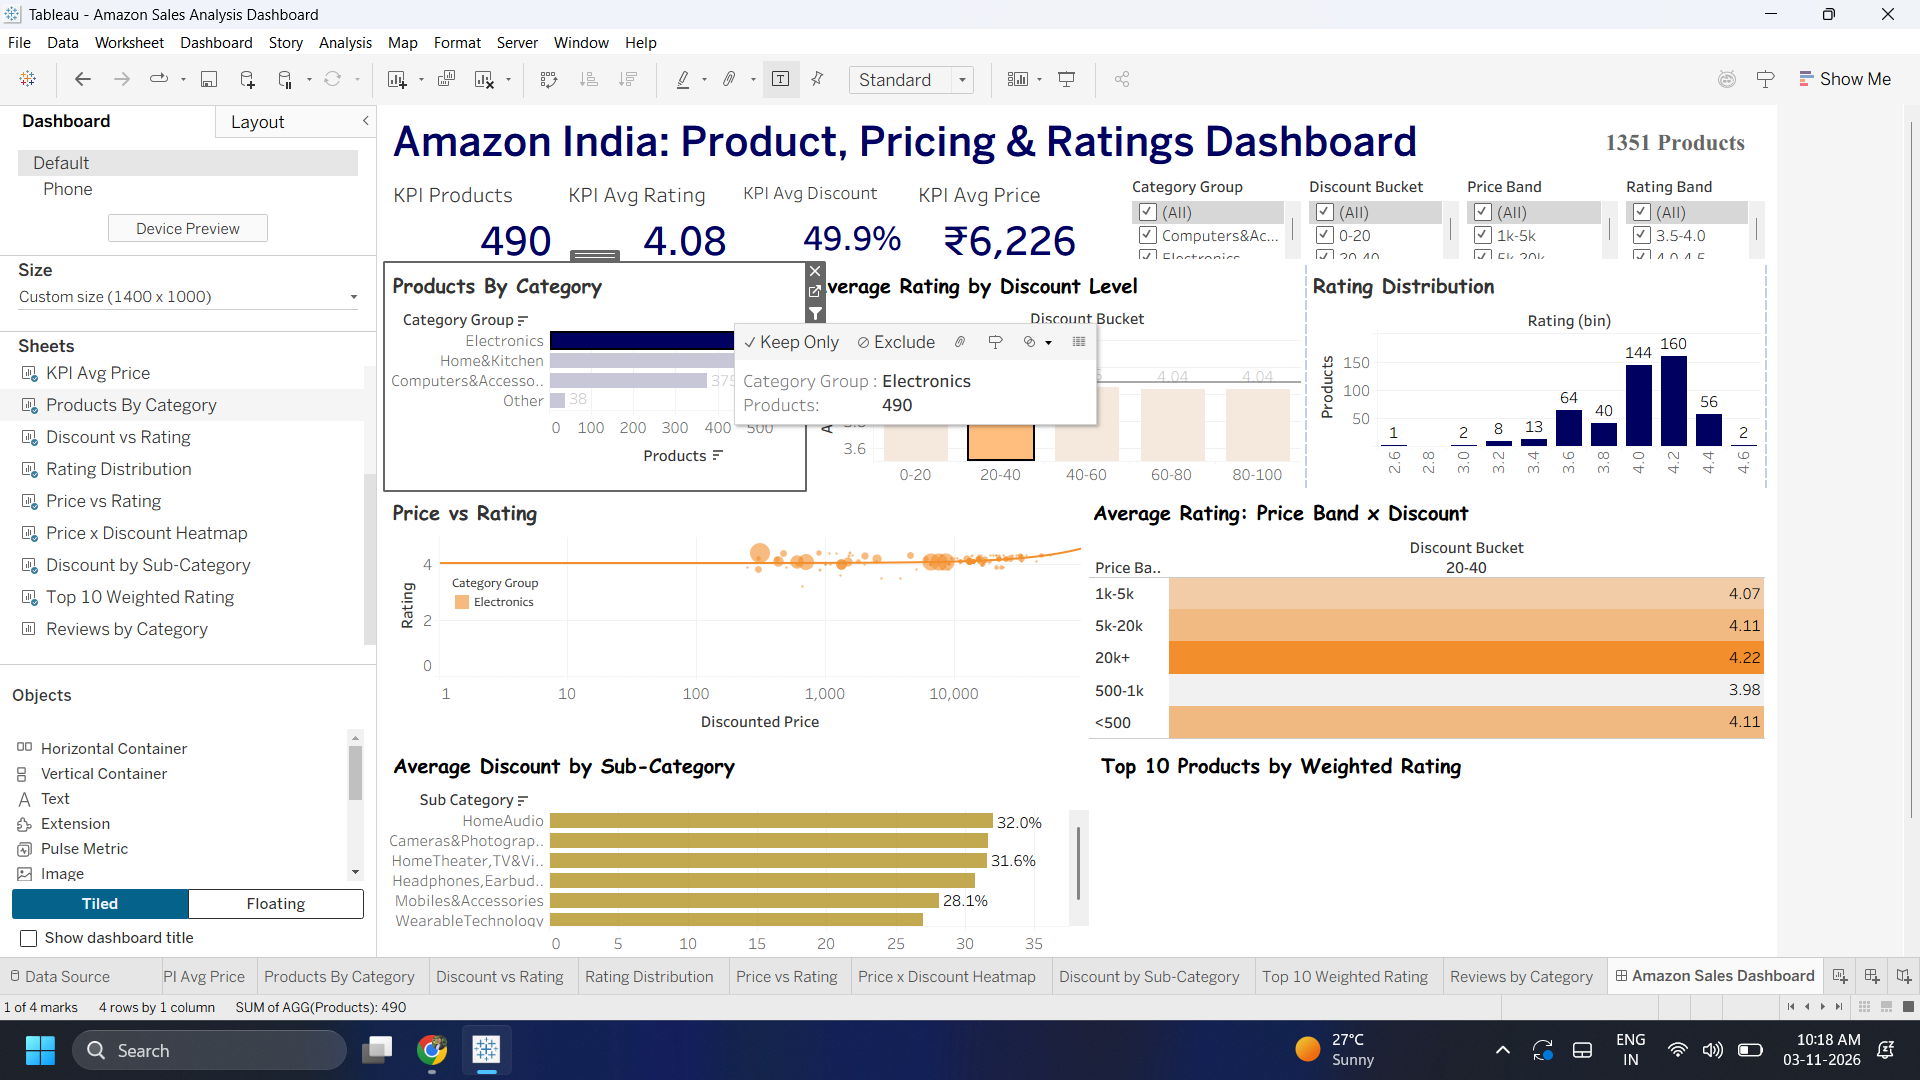

The page's visual inventory and layout, read from the dashboard file:
{"tool":"tableau","page":{"name":"Amazon Sales Dashboard","canvas":[1400,1000],"ordinal":0},"visuals":[{"type":"text","box":[8,8,1213,59]},{"type":"text","box":[1221,8,171,59]},{"type":"worksheet","title":"KPI Products","mark":"Automatic","box":[8,67,175,91]},{"type":"worksheet","title":"KPI Avg Rating","mark":"Automatic","box":[183,67,175,91]},{"type":"worksheet","title":"KPI Avg Discount ","mark":"Automatic","box":[358,67,175,91]},{"type":"worksheet","title":"KPI Avg Price","mark":"Automatic","box":[533,67,175,91]},{"type":"filter","title":"Price vs Rating","param":"[federated.0980d4p0rky9n915e8mv21knjjbg].[none:Calculation_1494022736744448:nk]","box":[751,67,177,91]},{"type":"filter","title":"Price vs Rating","param":"[federated.0980d4p0rky9n915e8mv21knjjbg].[none:discount_bucket:nk]","box":[928,67,158,91]},{"type":"filter","title":"Price vs Rating","param":"[federated.0980d4p0rky9n915e8mv21knjjbg].[none:price_band:nk]","box":[1086,67,159,91]},{"type":"filter","title":"Price vs Rating","param":"[federated.0980d4p0rky9n915e8mv21knjjbg].[none:rating_band:nk]","box":[1245,67,147,91]},{"type":"worksheet","title":"Products By Category","mark":"Automatic","rows":["Calculation_1494022736744448"],"cols":["Calculation_1494022738333697"],"box":[8,158,420,227]},{"type":"worksheet","title":"Discount vs Rating","mark":"Automatic","rows":["rating"],"cols":["discount_bucket"],"box":[428,158,500,227]},{"type":"worksheet","title":"Rating Distribution","mark":"Bar","rows":["Calculation_1494022738333697"],"cols":["Rating (bin)"],"box":[928,158,460,227]},{"type":"worksheet","title":"Price vs Rating","mark":"Circle","rows":["rating"],"cols":["discounted_price"],"box":[8,385,700,253]},{"type":"worksheet","title":"Price x Discount Heatmap","mark":"Square","rows":["price_band"],"cols":["discount_bucket"],"box":[708,385,684,253]},{"type":"legend","title":"Price vs Rating","param":"[federated.0980d4p0rky9n915e8mv21knjjbg].[none:Calculation_1494022736744448:nk]","box":[75,470,158,98]},{"type":"worksheet","title":"Discount by Sub-Category","mark":"Automatic","rows":["sub_category"],"cols":["discount_percentage"],"box":[8,638,692,250]},{"type":"worksheet","title":"Top 10 Weighted Rating","mark":"Automatic","rows":["Calculation_1494022738530306"],"cols":["weighted_rating"],"box":[700,638,692,250]},{"type":"text","box":[8,888,1384,104]}]}

Visuals, with their boxes on the page's 1400x1000 design canvas (x1, y1, x2, y2). These are canvas units, not pixel positions in the 1920x1080 screenshot, which may show the page scaled, cropped or inside an application window:
text: {"x1": 8, "y1": 8, "x2": 1221, "y2": 67}
text: {"x1": 1221, "y1": 8, "x2": 1392, "y2": 67}
"KPI Products" worksheet: {"x1": 8, "y1": 67, "x2": 183, "y2": 158}
"KPI Avg Rating" worksheet: {"x1": 183, "y1": 67, "x2": 358, "y2": 158}
"KPI Avg Discount " worksheet: {"x1": 358, "y1": 67, "x2": 533, "y2": 158}
"KPI Avg Price" worksheet: {"x1": 533, "y1": 67, "x2": 708, "y2": 158}
"Price vs Rating" filter: {"x1": 751, "y1": 67, "x2": 928, "y2": 158}
"Price vs Rating" filter: {"x1": 928, "y1": 67, "x2": 1086, "y2": 158}
"Price vs Rating" filter: {"x1": 1086, "y1": 67, "x2": 1245, "y2": 158}
"Price vs Rating" filter: {"x1": 1245, "y1": 67, "x2": 1392, "y2": 158}
"Products By Category" worksheet: {"x1": 8, "y1": 158, "x2": 428, "y2": 385}
"Discount vs Rating" worksheet: {"x1": 428, "y1": 158, "x2": 928, "y2": 385}
"Rating Distribution" worksheet (Bar marks): {"x1": 928, "y1": 158, "x2": 1388, "y2": 385}
"Price vs Rating" worksheet (Circle marks): {"x1": 8, "y1": 385, "x2": 708, "y2": 638}
"Price x Discount Heatmap" worksheet (Square marks): {"x1": 708, "y1": 385, "x2": 1392, "y2": 638}
"Price vs Rating" legend: {"x1": 75, "y1": 470, "x2": 233, "y2": 568}
"Discount by Sub-Category" worksheet: {"x1": 8, "y1": 638, "x2": 700, "y2": 888}
"Top 10 Weighted Rating" worksheet: {"x1": 700, "y1": 638, "x2": 1392, "y2": 888}
text: {"x1": 8, "y1": 888, "x2": 1392, "y2": 992}
